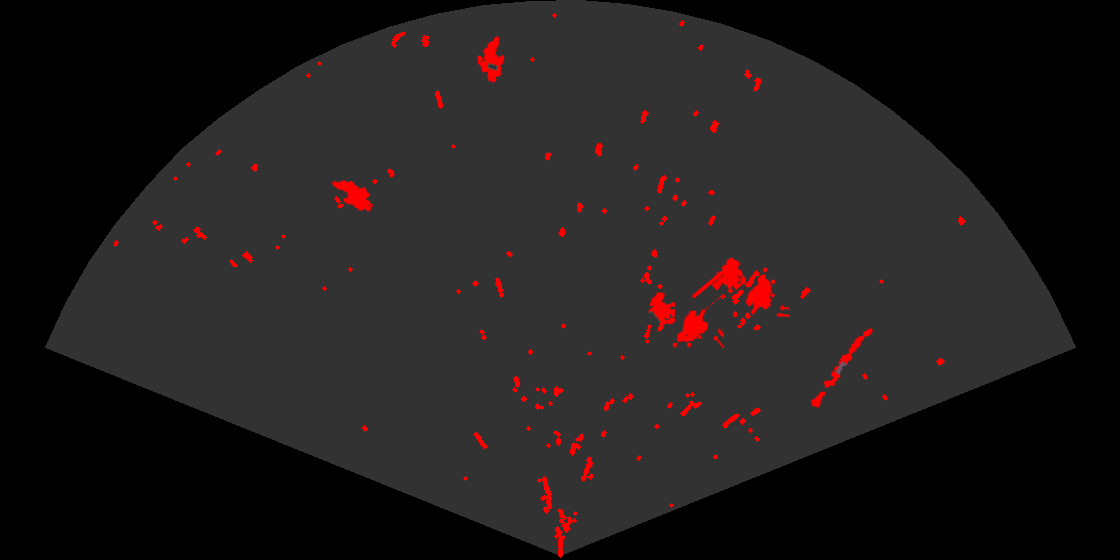AUV: (330, 179, 375, 213), (478, 34, 506, 85)
cage: (647, 269, 724, 351), (710, 256, 790, 317)
chain: (809, 326, 874, 409)
